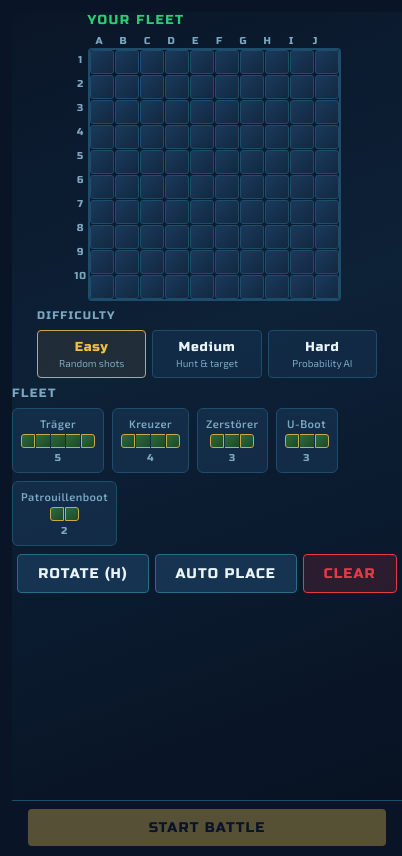
Test: PlacementPhase › "Start Battle" button is enabled after auto-place
Click the button "Auto Place".
click(226, 574)  # box [155, 554, 297, 593]
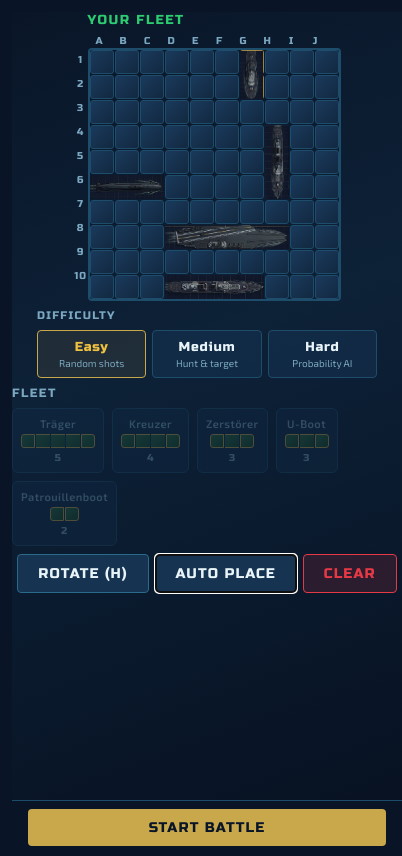
Expected: the button with test id "start-battle-btn" is enabled, [28, 809, 386, 846]
